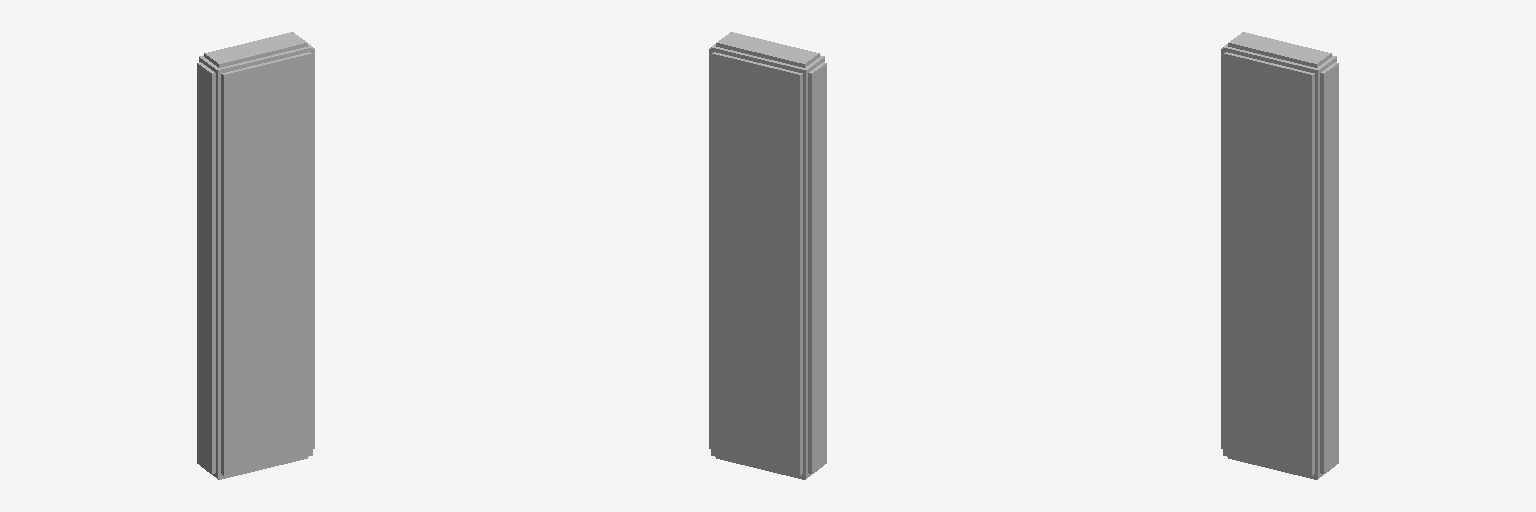
The model's file is fuel.obj.
3 views of the same model, side by side, from view 1: azimuth 30°, elevation 25°; view 2: azimuth 150°, elevation 25°; view 3: azimuth 330°, elevation 25° (orthographic).
Bounding box in the file's own units: 28 × 108 × 11.